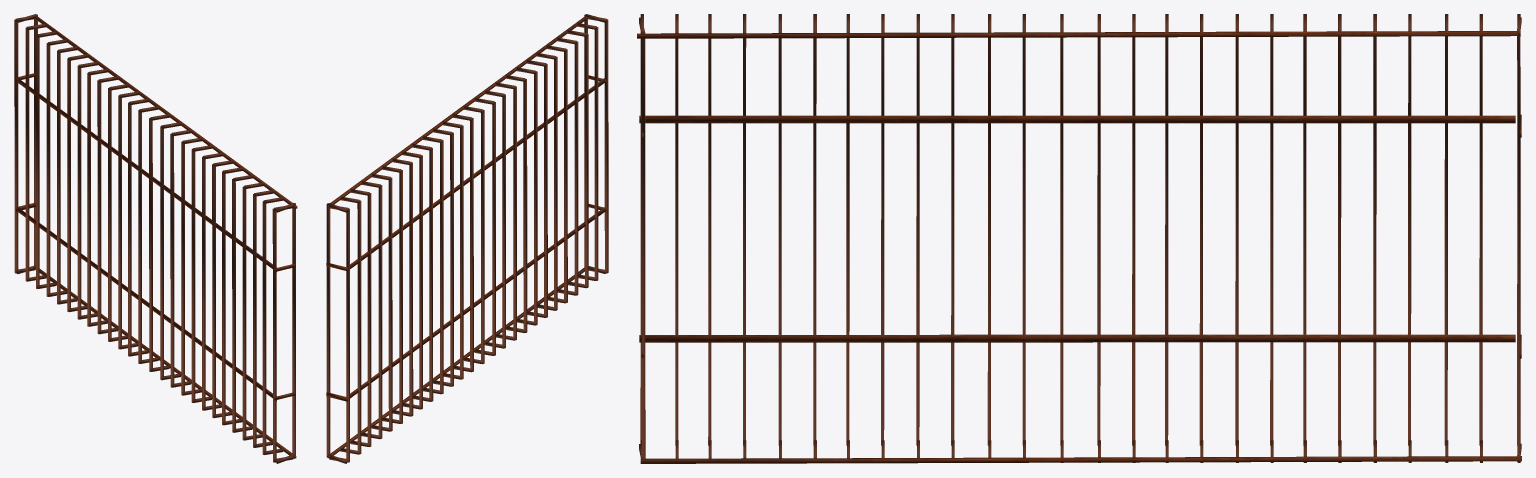
File: Rejas.glb
3 renders of one model, left to right at view 1: azimuth 30°, elevation 25°; view 2: azimuth 150°, elevation 25°; view 3: azimuth 270°, elevation 25°, orthographic. The views are drawn at different scales.
Visible parts, largest first — view 1: Object_2; view 2: Object_2; view 3: Object_2.
Part boxes in pixels (x1=…): Object_2: x1=14, y1=14, x2=297, y2=463; Object_2: x1=326, y1=14, x2=608, y2=463; Object_2: x1=637, y1=14, x2=1521, y2=463.
Bounding box in the file's own units: 0.8743 × 9.35 × 17.29.
1 material, 1 textured.
